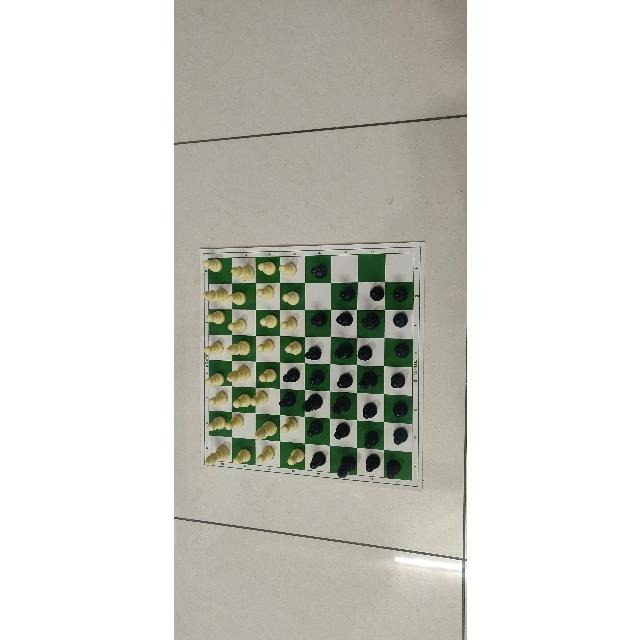black-bishop: (335, 453, 358, 479), (355, 369, 378, 392), (328, 395, 351, 417), (331, 341, 355, 362), (300, 392, 324, 412), (359, 311, 381, 332)
black-pawn: (277, 390, 297, 412), (309, 452, 325, 468), (386, 460, 400, 478), (333, 423, 348, 439), (306, 420, 321, 436), (365, 454, 379, 471), (364, 431, 378, 448), (390, 373, 405, 388), (393, 402, 407, 418), (393, 428, 407, 444), (310, 265, 326, 279), (310, 313, 326, 327), (282, 369, 299, 382), (393, 286, 407, 301), (394, 342, 408, 357), (362, 403, 376, 418), (336, 374, 351, 388), (339, 287, 354, 301), (308, 371, 323, 385), (336, 312, 352, 325), (304, 346, 320, 359), (393, 313, 407, 327), (357, 346, 371, 360), (369, 287, 383, 301)
white-bishop: (228, 261, 256, 284), (201, 285, 229, 308), (202, 444, 229, 466), (225, 362, 251, 384), (223, 340, 250, 360), (252, 420, 277, 440)
white-pawn: (256, 443, 276, 466), (207, 390, 230, 410), (225, 289, 247, 309), (231, 446, 253, 465), (202, 371, 225, 389), (202, 256, 224, 274), (202, 340, 224, 358), (224, 318, 247, 335), (204, 309, 225, 327), (249, 391, 269, 409), (205, 415, 225, 433), (231, 393, 251, 410), (225, 414, 243, 432), (286, 448, 303, 465), (280, 417, 297, 432), (257, 261, 275, 274), (255, 286, 273, 299), (258, 368, 276, 381), (281, 291, 298, 304), (278, 263, 295, 276), (259, 315, 276, 328), (256, 341, 274, 353), (279, 319, 296, 331), (284, 342, 301, 354)
